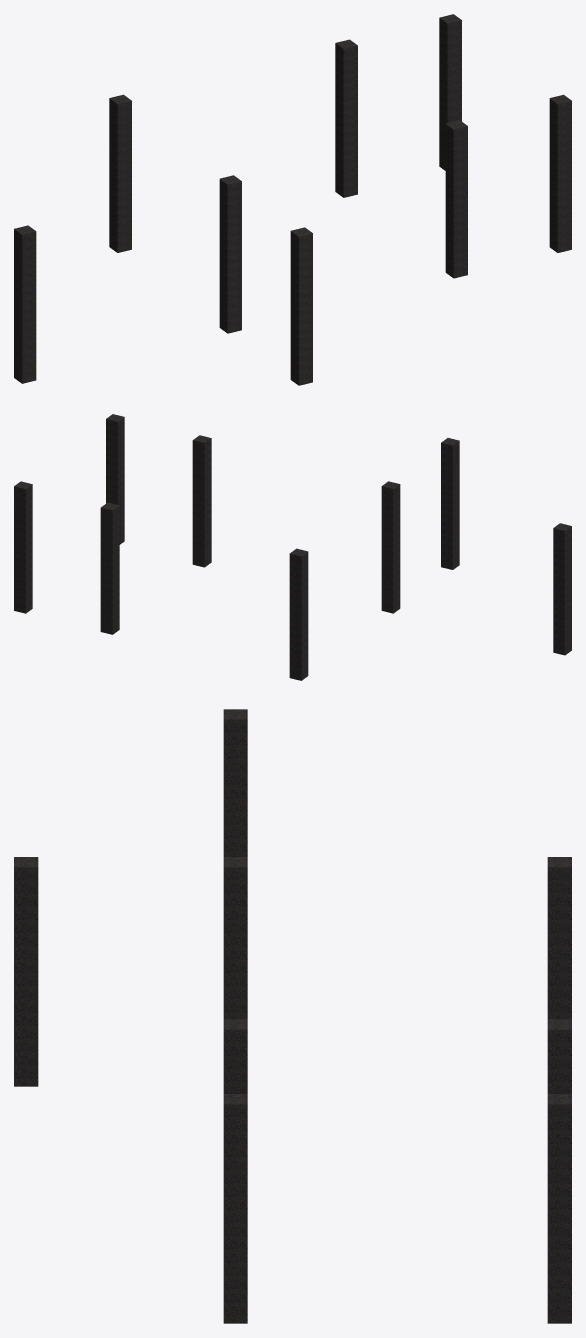
3 views of the same model, one above another, from view 1: azimuth 30°, elevation 25°; view 2: azimuth 150°, elevation 25°; view 3: azimuth 270°, elevation 25° (orthographic). The views are drawn at different scales.
Visible parts, largest first — view 1: Columns_Rectangular 300 x 300 mm [645681]001, Columns_Rectangular 300 x 300 mm [646032]001, Columns_Rectangular 300 x 300 mm [645483]001, Columns_Rectangular 300 x 300 mm [645923]001, Columns_Rectangular 300 x 300 mm [646252]001, Columns_Rectangular 300 x 300 mm [645400]001, Columns_Rectangular 300 x 300 mm [646169]001, Columns_Rectangular 300 x 300 mm [645610]001; view 2: Columns_Rectangular 300 x 300 mm [645400]001, Columns_Rectangular 300 x 300 mm [645923]001, Columns_Rectangular 300 x 300 mm [646032]001, Columns_Rectangular 300 x 300 mm [645483]001, Columns_Rectangular 300 x 300 mm [645610]001, Columns_Rectangular 300 x 300 mm [645681]001, Columns_Rectangular 300 x 300 mm [646252]001, Columns_Rectangular 300 x 300 mm [646169]001; view 3: Columns_Rectangular 300 x 300 mm [645610]001, Columns_Rectangular 300 x 300 mm [646169]001, Columns_Rectangular 300 x 300 mm [646252]001, Columns_Rectangular 300 x 300 mm [645400]001, Columns_Rectangular 300 x 300 mm [645923]001, Columns_Rectangular 300 x 300 mm [645681]001, Columns_Rectangular 300 x 300 mm [645483]001, Columns_Rectangular 300 x 300 mm [646032]001.
Boxes of the visible parts, x1,y1,x2,y2 form: Columns_Rectangular 300 x 300 mm [645681]001: (14,225,36,383); Columns_Rectangular 300 x 300 mm [646032]001: (445,120,467,278); Columns_Rectangular 300 x 300 mm [645483]001: (335,39,357,197); Columns_Rectangular 300 x 300 mm [645923]001: (219,175,241,333); Columns_Rectangular 300 x 300 mm [646252]001: (290,227,312,385); Columns_Rectangular 300 x 300 mm [645400]001: (109,94,131,252); Columns_Rectangular 300 x 300 mm [646169]001: (549,94,571,252); Columns_Rectangular 300 x 300 mm [645610]001: (439,14,461,170); Columns_Rectangular 300 x 300 mm [645400]001: (289,548,308,680); Columns_Rectangular 300 x 300 mm [645923]001: (381,481,400,613); Columns_Rectangular 300 x 300 mm [646032]001: (192,435,211,567); Columns_Rectangular 300 x 300 mm [645483]001: (100,502,119,634); Columns_Rectangular 300 x 300 mm [645610]001: (14,481,32,613); Columns_Rectangular 300 x 300 mm [645681]001: (553,523,571,655); Columns_Rectangular 300 x 300 mm [646252]001: (441,438,459,569); Columns_Rectangular 300 x 300 mm [646169]001: (106,414,124,544); Columns_Rectangular 300 x 300 mm [645610]001: (547,1094,571,1323); Columns_Rectangular 300 x 300 mm [646169]001: (223,1094,247,1323); Columns_Rectangular 300 x 300 mm [646252]001: (14,857,38,1086); Columns_Rectangular 300 x 300 mm [645400]001: (547,857,571,1019); Columns_Rectangular 300 x 300 mm [645923]001: (223,857,247,1019); Columns_Rectangular 300 x 300 mm [645681]001: (223,709,247,856); Columns_Rectangular 300 x 300 mm [645483]001: (547,1019,571,1093); Columns_Rectangular 300 x 300 mm [646032]001: (223,1019,247,1093).
Bounding box in the file's own units: 11.58 × 3 × 6.91.
Materials: 1 (1 with a texture image).
